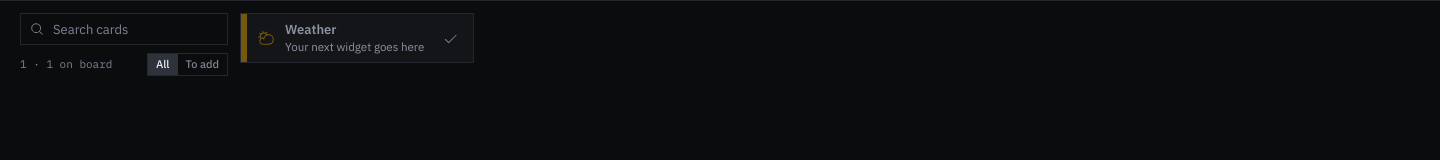
Test case: order and the "To add" switch › says when every card is on the board
Click the button "To add". click: [202, 64]
box: [178, 54, 227, 74]
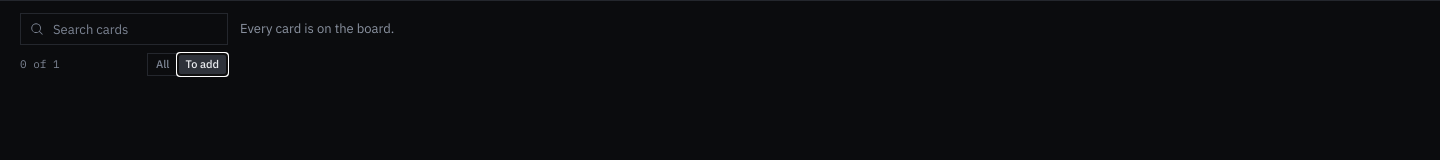
Expected: the text "Every card is on the board." is shown, [240, 20, 394, 37]
